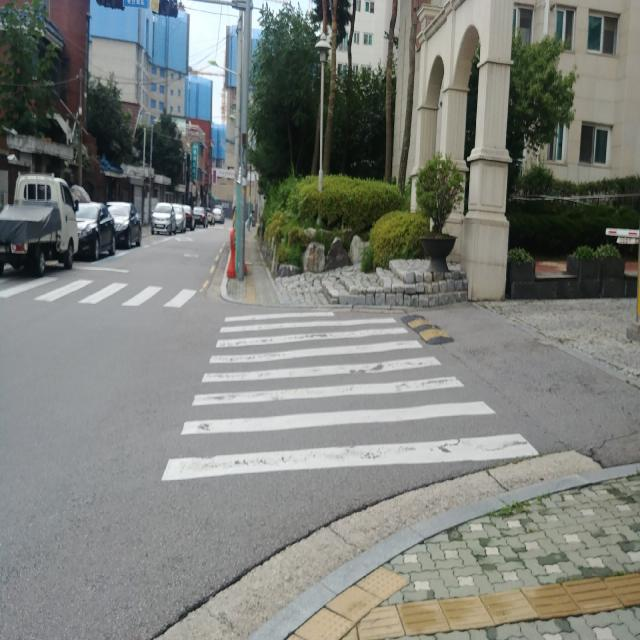횡단보도: (160, 309, 540, 482)
